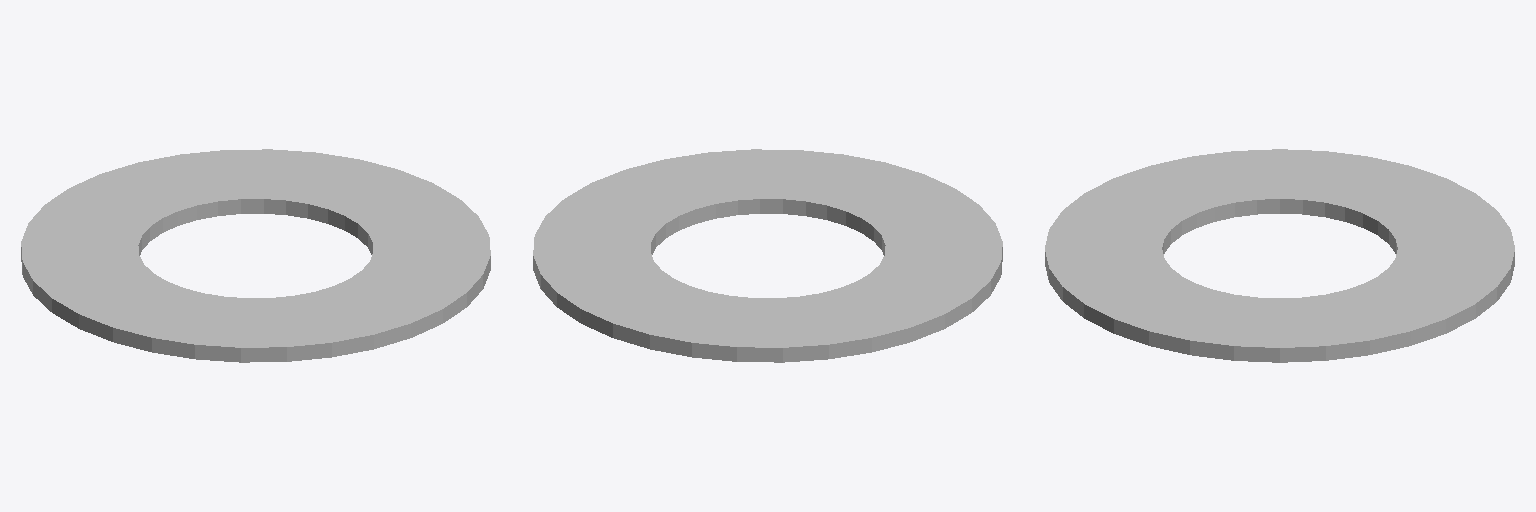
File: the_ring.obj
3 renders of one model, left to right at view 1: azimuth 30°, elevation 25°; view 2: azimuth 150°, elevation 25°; view 3: azimuth 270°, elevation 25°, orthographic.
Parts seen in each view (by area): view 1: Circle; view 2: Circle; view 3: Circle.
Boxes of the visible parts, x1,y1,x2,y2 form: Circle: [21, 149, 490, 362]; Circle: [533, 149, 1002, 362]; Circle: [1045, 149, 1514, 362].
Size of the model in its own units: 5.6 by 0.1933 by 5.6.